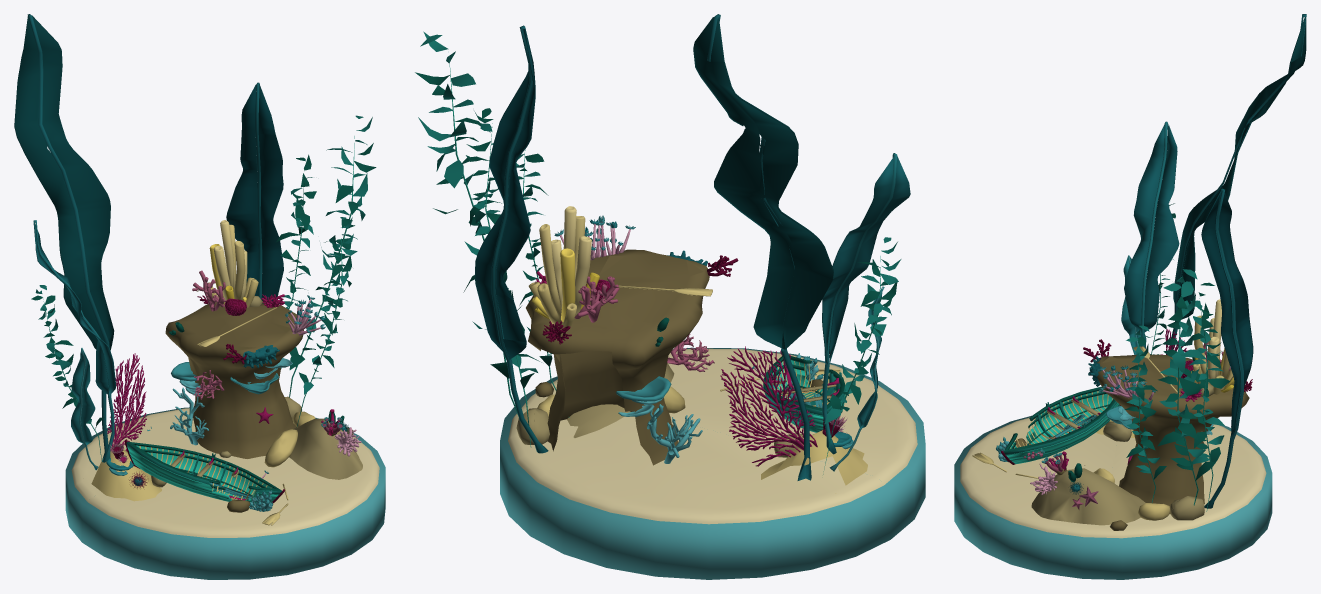
The model's file is mini-ocean.glb.
3 renders of one model, left to right at view 1: azimuth 30°, elevation 25°; view 2: azimuth 150°, elevation 25°; view 3: azimuth 270°, elevation 25°, orthographic. The views are drawn at different scales.
Visible parts, largest first — view 1: Floor, SuperFloor, Alga, SuperCoral, Alga2, Leaves, Stems, Wood3, Leaves2, Ship, Rock, Stems2 (+10 smaller); view 2: Floor, SuperFloor, SuperCoral, Alga, Stems, Alga2, Leaves2, Coral8, Leaves, Wood3, Stems2, Coral9 (+10 smaller); view 3: SuperFloor, Floor, SuperCoral, Stems, Leaves, Alga2, Leaves2, Rock, Alga, Ship, Wood3, Rocks (+5 smaller).
Part boxes in pixels (x1,y1,x2,y2): Floor: [71, 408, 379, 537]; SuperFloor: [65, 380, 385, 579]; Alga: [14, 15, 114, 350]; SuperCoral: [165, 303, 303, 458]; Alga2: [226, 84, 349, 433]; Leaves: [31, 143, 376, 499]; Stems: [27, 14, 262, 485]; Wood3: [91, 277, 315, 501]; Leaves2: [35, 115, 372, 494]; Ship: [127, 445, 279, 505]; Rock: [196, 289, 362, 479]; Stems2: [33, 220, 346, 470]; Floor: [508, 348, 917, 524]; SuperFloor: [500, 347, 925, 579]; SuperCoral: [526, 249, 710, 465]; Alga: [693, 17, 833, 349]; Stems: [491, 14, 910, 480]; Alga2: [475, 28, 535, 358]; Leaves2: [418, 31, 901, 424]; Coral8: [720, 346, 817, 466]; Leaves: [415, 72, 897, 418]; Wood3: [528, 282, 867, 493]; Stems2: [585, 153, 897, 454]; Coral9: [577, 276, 714, 371]; SuperFloor: [954, 415, 1272, 579]; Floor: [960, 417, 1266, 538]; SuperCoral: [1084, 354, 1249, 514]; Stems: [1124, 14, 1306, 508]; Leaves: [1004, 203, 1230, 482]; Alga2: [1070, 190, 1253, 494]; Leaves2: [1004, 259, 1224, 473]; Rock: [1031, 350, 1220, 525]; Alga: [1173, 17, 1306, 319]; Ship: [1005, 391, 1119, 463]; Wood3: [1010, 364, 1233, 520]; Rocks: [1046, 383, 1213, 520].
Size of the model in its own units: 123 by 149 by 106.
